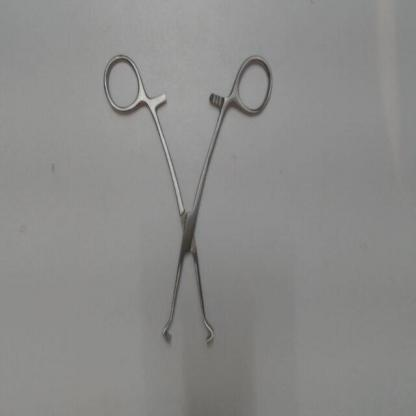Babcock Tissue Forceps: (96, 51, 276, 351)
